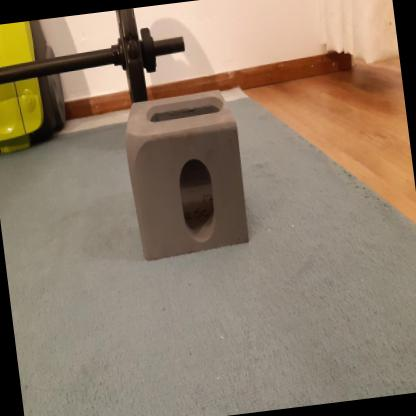CornerCasting: (118, 86, 254, 260)
